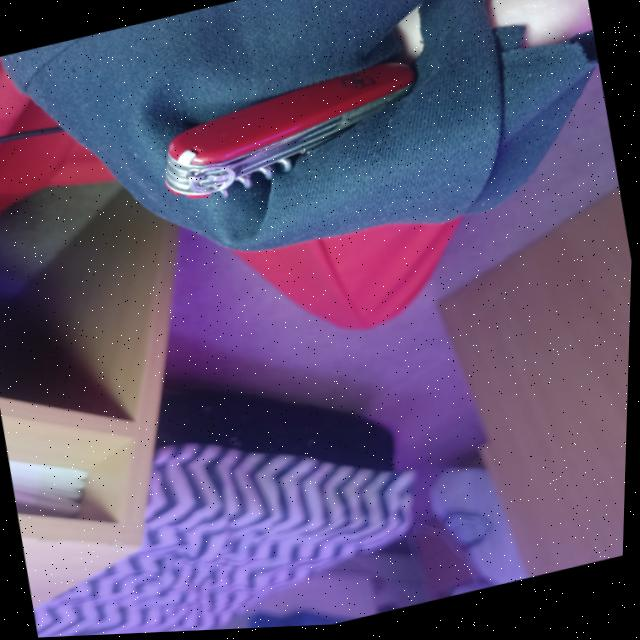knife victorinox: (151, 52, 436, 208)
